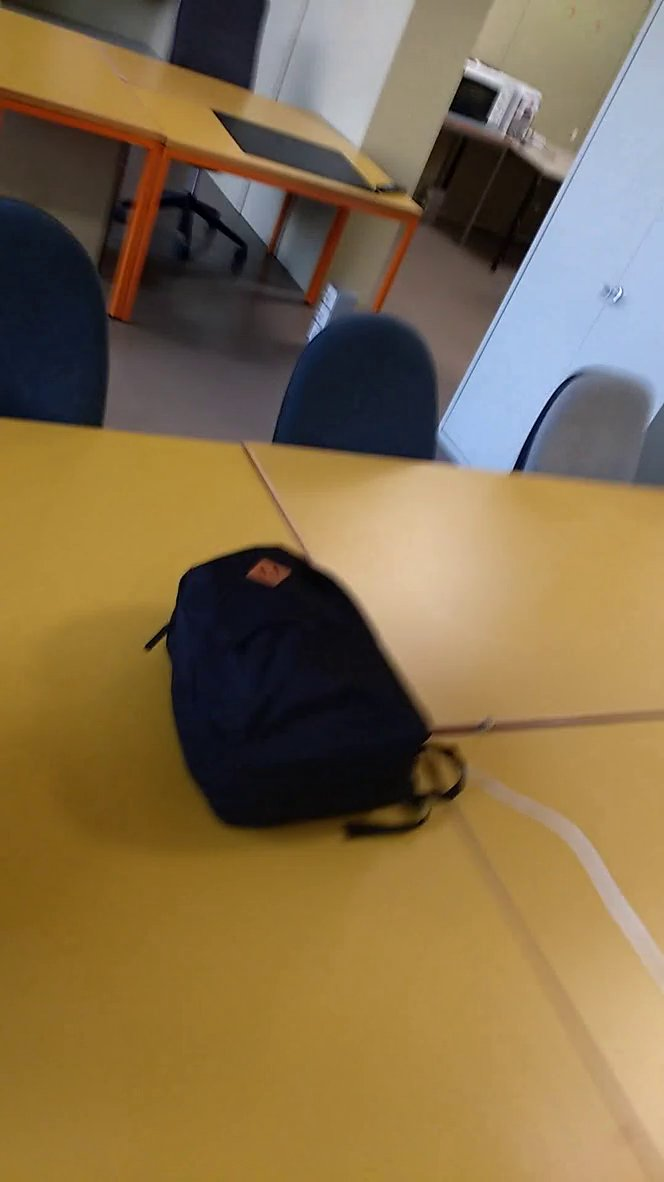bag: (140, 534, 480, 857)
chair: (1, 181, 126, 458), (266, 291, 457, 472), (502, 350, 664, 502)
